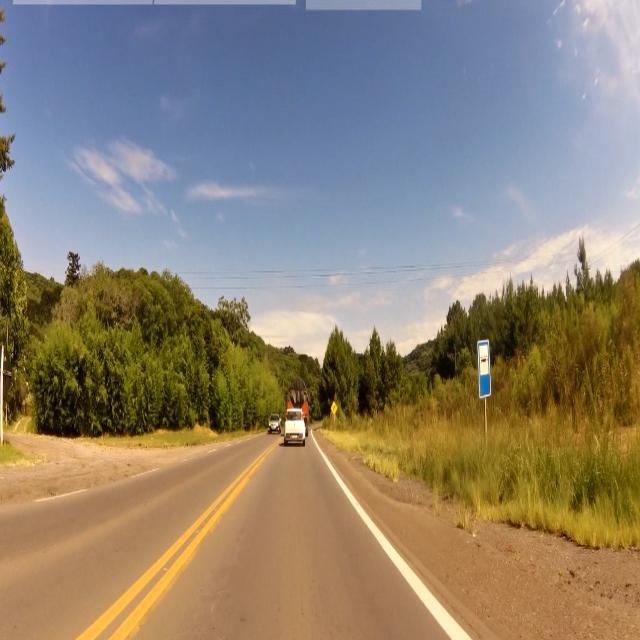S-14: (477, 340, 492, 405)
